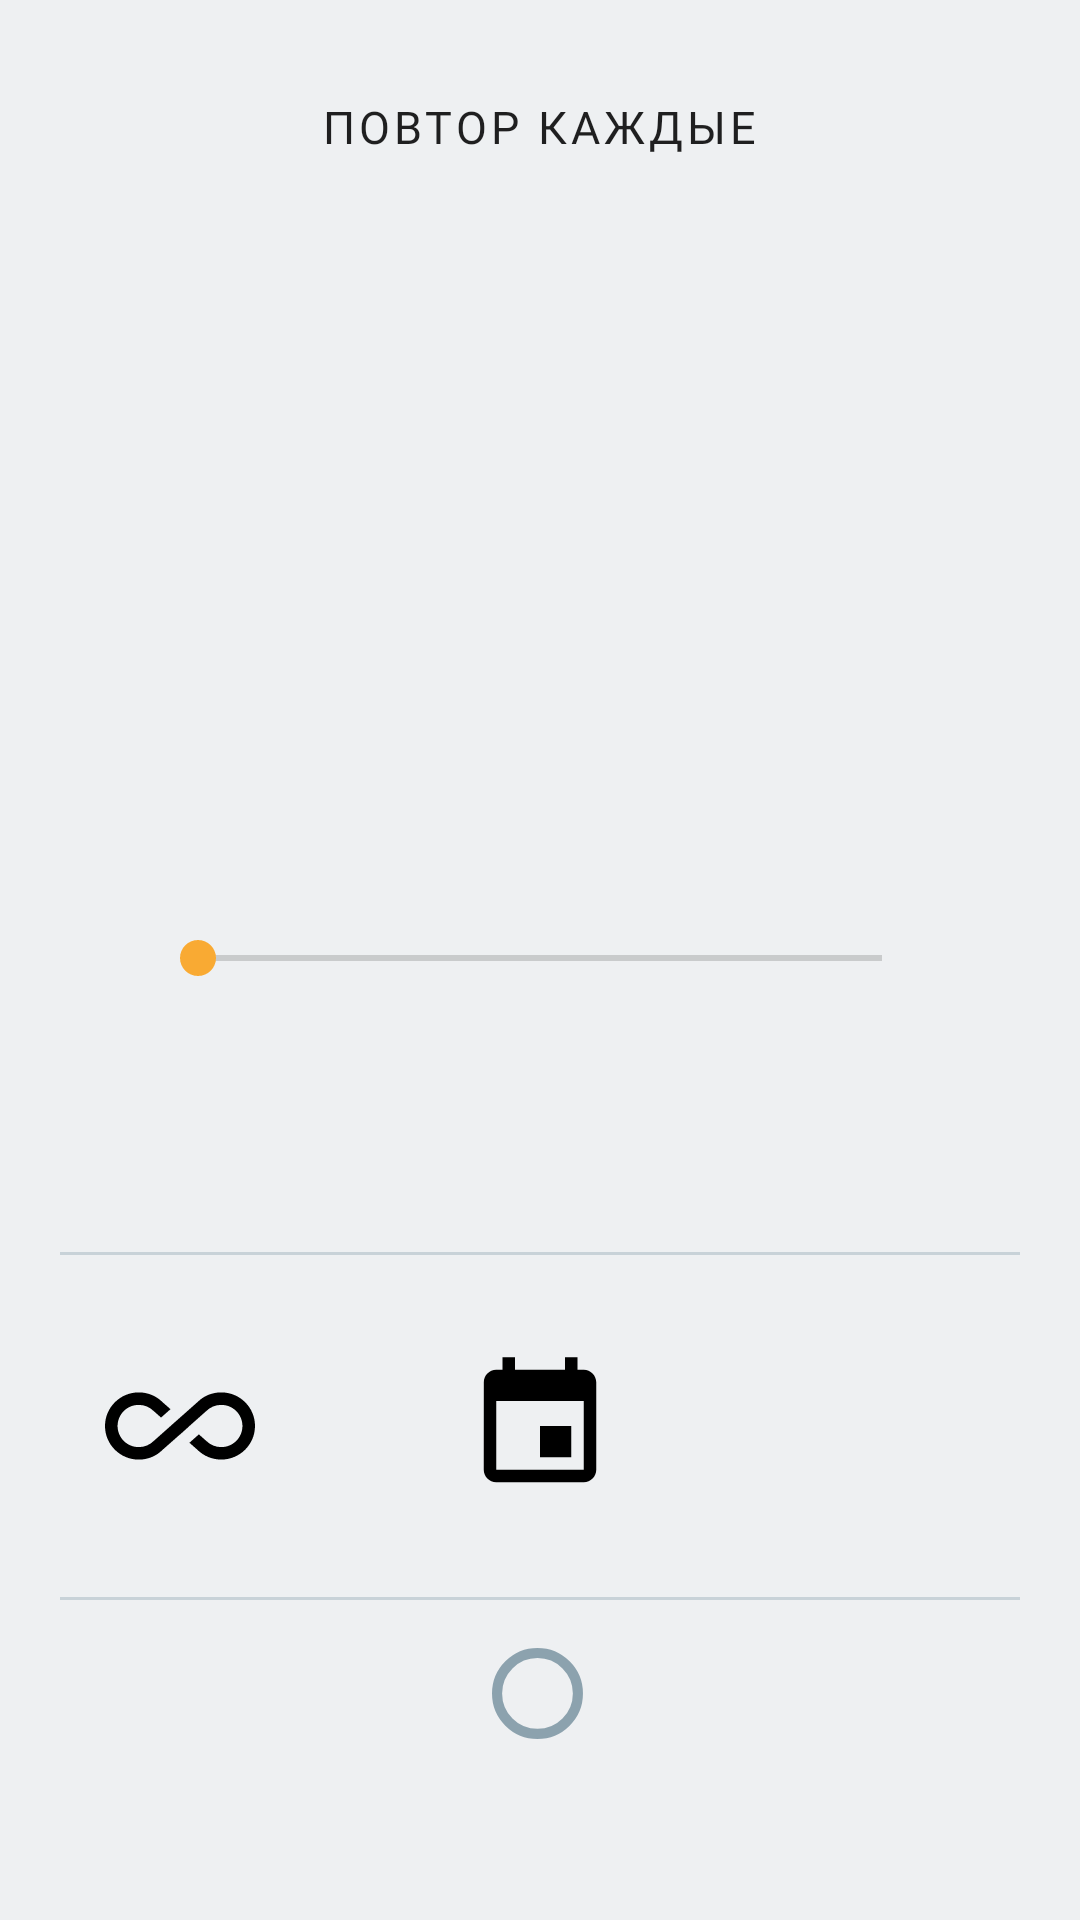

Screen size 1080x1920. Icon name, then its box in pixels as (x1, y1, x2, y2):
all inclusive: (105, 1392, 255, 1460)
event: (483, 1357, 597, 1483)
